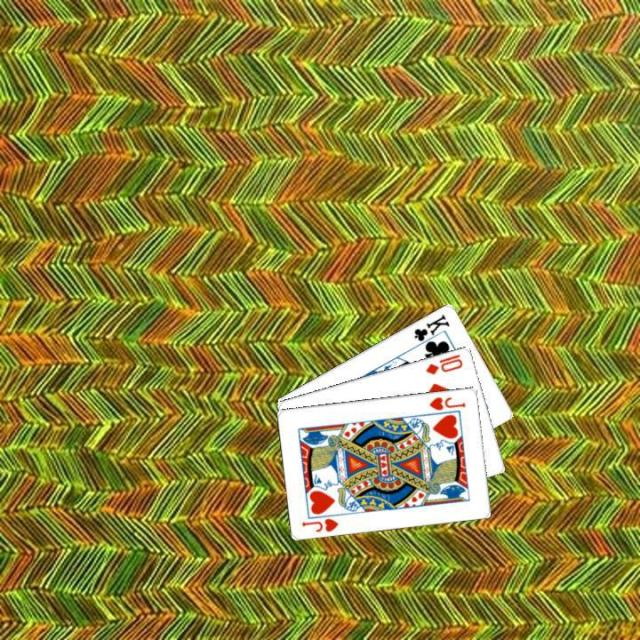10D: (422, 349, 465, 376)
JH: (298, 514, 340, 533), (426, 393, 468, 411)
KC: (409, 310, 452, 350)
